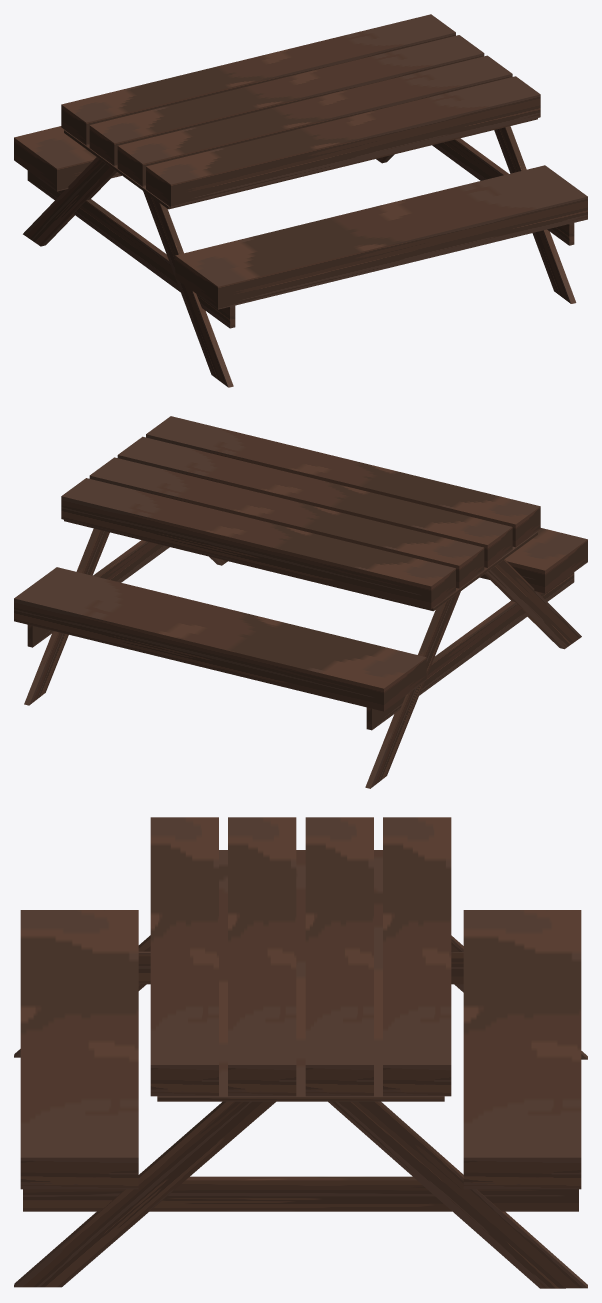
File: PicnicTable.fbx
The picture shows the model from 3 angles, top to bottom: view 1: azimuth 30°, elevation 25°; view 2: azimuth 150°, elevation 25°; view 3: azimuth 270°, elevation 25°; orthographic projection. The views are drawn at different scales.
Visible parts, largest first — view 1: Cube.002, Cube.001, Cube, Cube.004, Cube.003, Cube.009, Cube.005, Cube.006, Cube.012, Cube.011, Cube.008, Cube.010; view 2: Cube.005, Cube.003, Cube.004, Cube, Cube.001, Cube.009, Cube.002, Cube.012, Cube.006, Cube.007, Cube.008, Cube.010; view 3: Cube.002, Cube.005, Cube, Cube.001, Cube.003, Cube.004, Cube.008, Cube.007, Cube.011, Cube.010, Cube.009.
Boxes of the visible parts, x1=… form: Cube.002: x1=175, y1=165, x2=587, y2=309; Cube.001: x1=146, y1=76, x2=540, y2=207; Cube: x1=117, y1=55, x2=512, y2=186; Cube.004: x1=89, y1=35, x2=484, y2=165; Cube.003: x1=61, y1=14, x2=455, y2=145; Cube.009: x1=27, y1=170, x2=235, y2=328; Cube.005: x1=14, y1=126, x2=121, y2=191; Cube.006: x1=143, y1=191, x2=233, y2=387; Cube.012: x1=23, y1=157, x2=116, y2=246; Cube.011: x1=494, y1=126, x2=576, y2=303; Cube.008: x1=432, y1=138, x2=574, y2=245; Cube.010: x1=64, y1=118, x2=537, y2=209; Cube.005: x1=14, y1=567, x2=426, y2=711; Cube.003: x1=61, y1=478, x2=455, y2=609; Cube.004: x1=89, y1=457, x2=484, y2=588; Cube: x1=117, y1=436, x2=512, y2=567; Cube.001: x1=146, y1=416, x2=540, y2=547; Cube.009: x1=366, y1=572, x2=574, y2=730; Cube.002: x1=480, y1=528, x2=587, y2=593; Cube.012: x1=365, y1=591, x2=460, y2=788; Cube.006: x1=484, y1=559, x2=581, y2=649; Cube.007: x1=24, y1=528, x2=109, y2=705; Cube.008: x1=27, y1=540, x2=169, y2=647; Cube.010: x1=64, y1=520, x2=537, y2=611; Cube.002: x1=20, y1=910, x2=138, y2=1189; Cube.005: x1=463, y1=910, x2=581, y2=1189; Cube: x1=228, y1=817, x2=296, y2=1096; Cube.001: x1=150, y1=817, x2=218, y2=1096; Cube.003: x1=383, y1=817, x2=451, y2=1096; Cube.004: x1=305, y1=817, x2=373, y2=1096; Cube.008: x1=23, y1=1176, x2=578, y2=1211; Cube.007: x1=328, y1=1101, x2=587, y2=1288; Cube.011: x1=14, y1=1101, x2=275, y2=1287; Cube.010: x1=157, y1=850, x2=444, y2=1101; Cube.009: x1=138, y1=951, x2=463, y2=984.
Size of the model in its own units: 530 by 231 by 519.
Materials: 1 (1 with a texture image).
